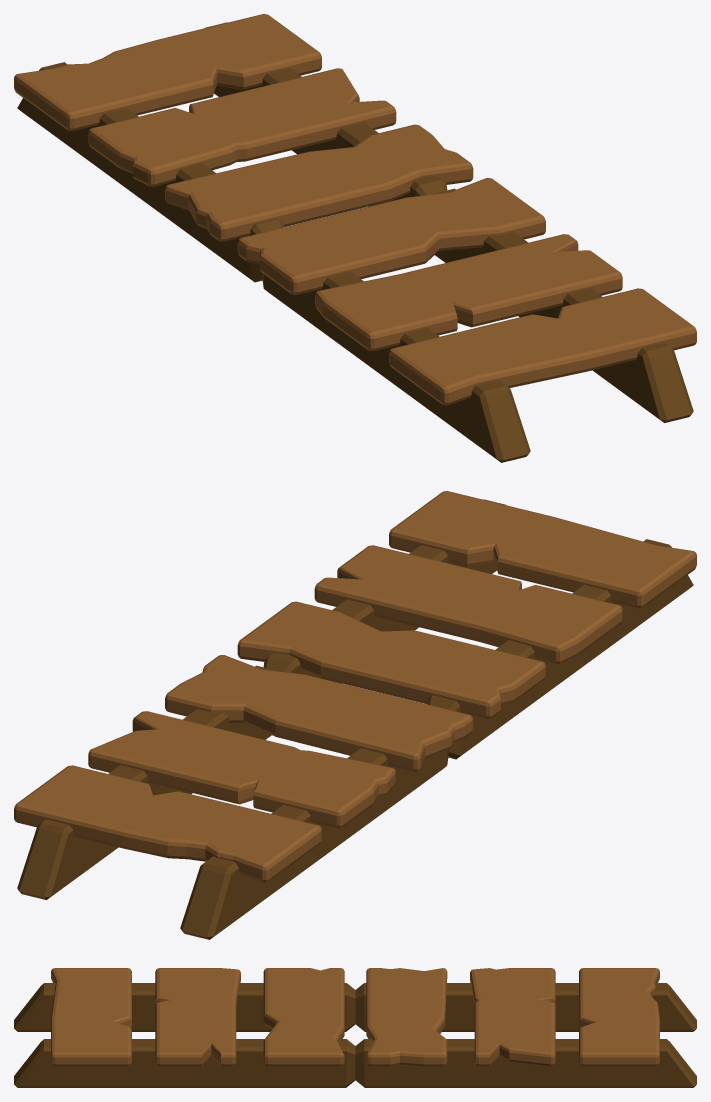
File: WoodBridge.fbx
3 views of the same model, one above another, from view 1: azimuth 30°, elevation 25°; view 2: azimuth 150°, elevation 25°; view 3: azimuth 270°, elevation 25° (orthographic). The views are drawn at different scales.
Parts seen in each view (by area): view 1: Cube.001, Cube; view 2: Cube.001, Cube; view 3: Cube.001, Cube.
Boxes of the visible parts, bbox=[...] form: Cube.001: bbox=[14, 14, 696, 405]; Cube: bbox=[17, 22, 693, 462]; Cube.001: bbox=[14, 491, 696, 882]; Cube: bbox=[17, 499, 693, 939]; Cube.001: bbox=[51, 968, 659, 1066]; Cube: bbox=[14, 983, 696, 1087].
Size of the model in its own units: 365 by 87.87 by 1204.
